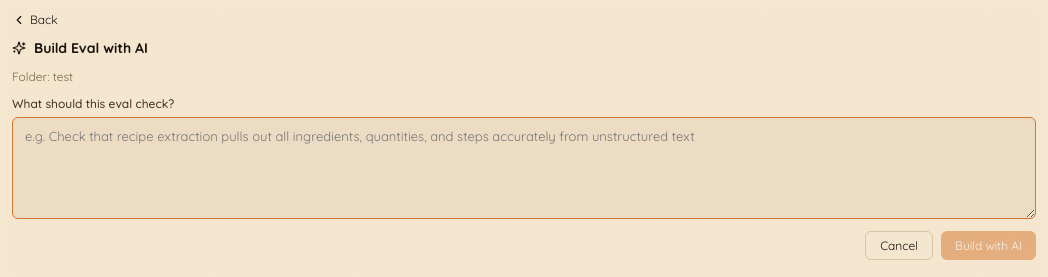
it: AIEvalDrawer › enables submit when description is not empty
The width and height of the screenshot is (1048, 277).
Replace the text in the text box with placeholder "Check that recipe" with "Check API response format". click: (524, 168)
box: [12,117,1036,219]
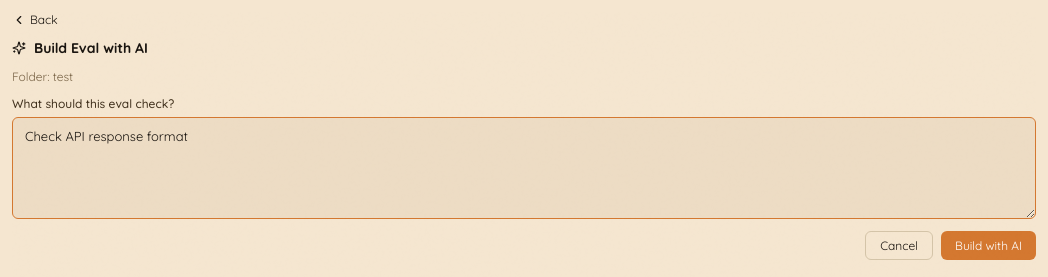
Now the button "Build with AI" is enabled, box [941,231,1036,260]
